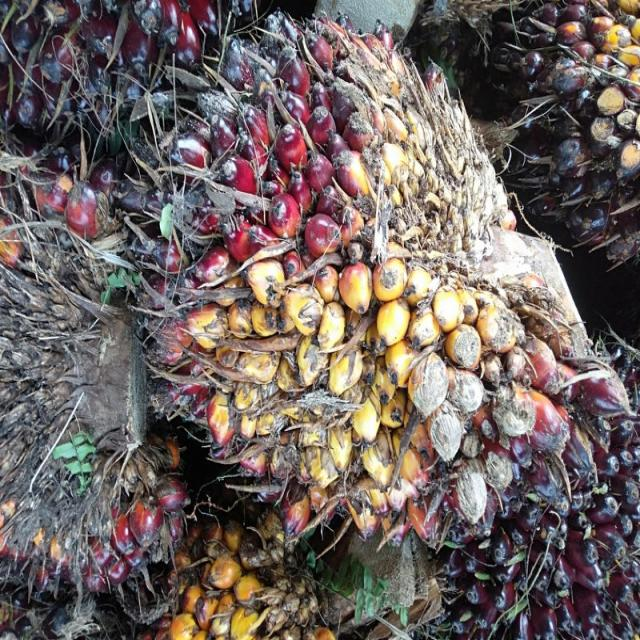fraksi 1: (135, 20, 634, 540)
